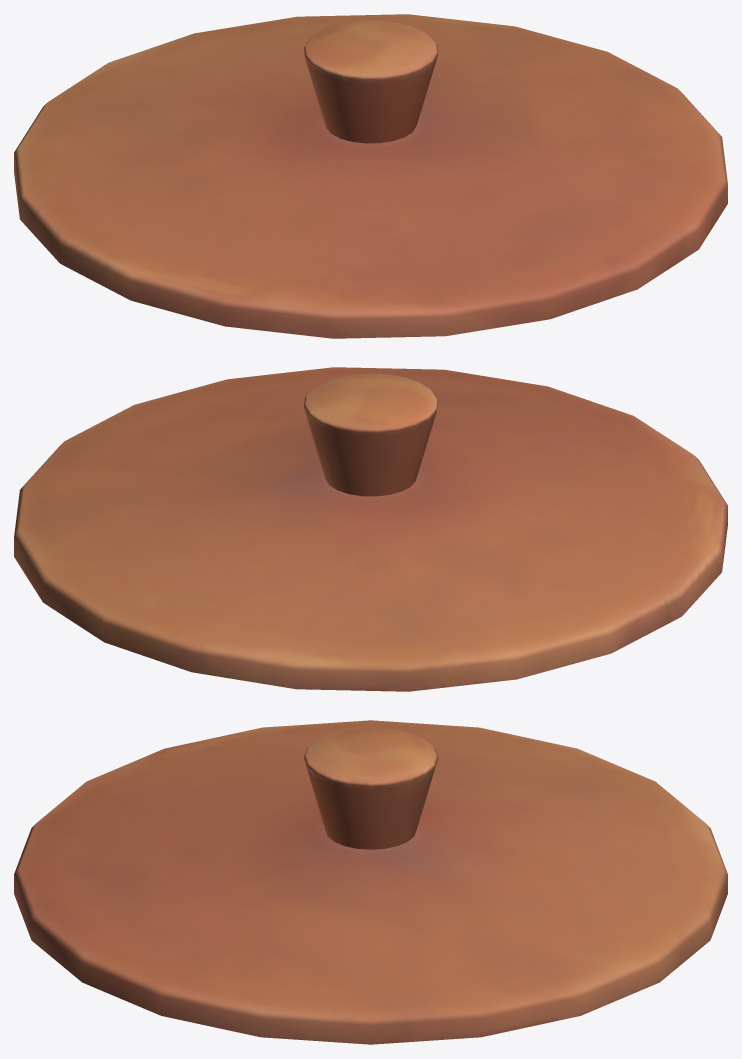
Rendered from SM_SaucePan_Copper_Top_02.fbx.
3 renders of one model, top to bottom at view 1: azimuth 30°, elevation 25°; view 2: azimuth 150°, elevation 25°; view 3: azimuth 270°, elevation 25°, orthographic.
Visible parts, largest first — view 1: SM_SaucePan_Copper_Top_02_LOD0; view 2: SM_SaucePan_Copper_Top_02_LOD0; view 3: SM_SaucePan_Copper_Top_02_LOD0.
Part boxes in pixels (left/top/right/bottom): SM_SaucePan_Copper_Top_02_LOD0: left=14, top=14, right=727, bottom=338; SM_SaucePan_Copper_Top_02_LOD0: left=14, top=367, right=727, bottom=691; SM_SaucePan_Copper_Top_02_LOD0: left=14, top=720, right=727, bottom=1044.
Size of the model in its own units: 30.41 by 30.41 by 6.78.
Materials: 1 (1 with a texture image).
